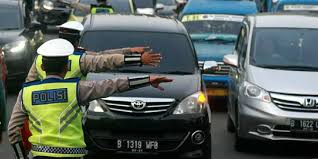plate: (116, 138, 157, 151), (290, 117, 318, 132), (206, 86, 227, 96)
